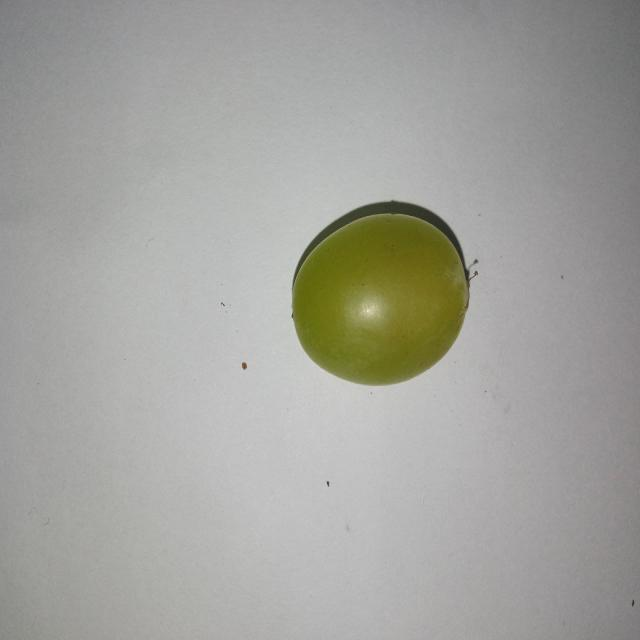fresh_grape: (294, 215, 462, 385)
